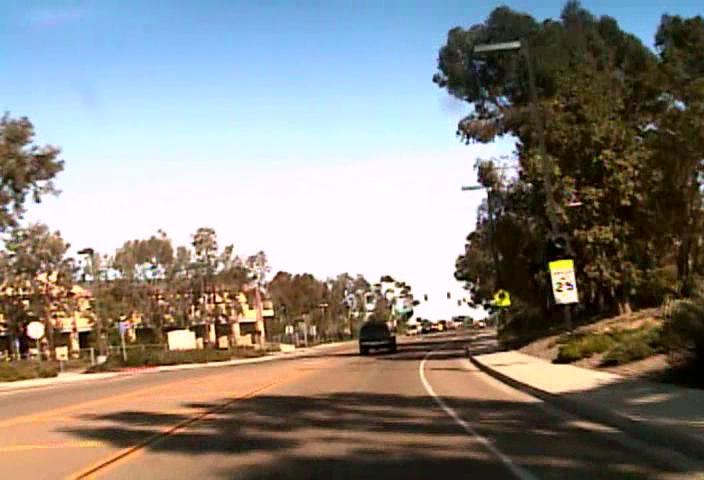schoolSpeedLimit25: (548, 259, 578, 304)
